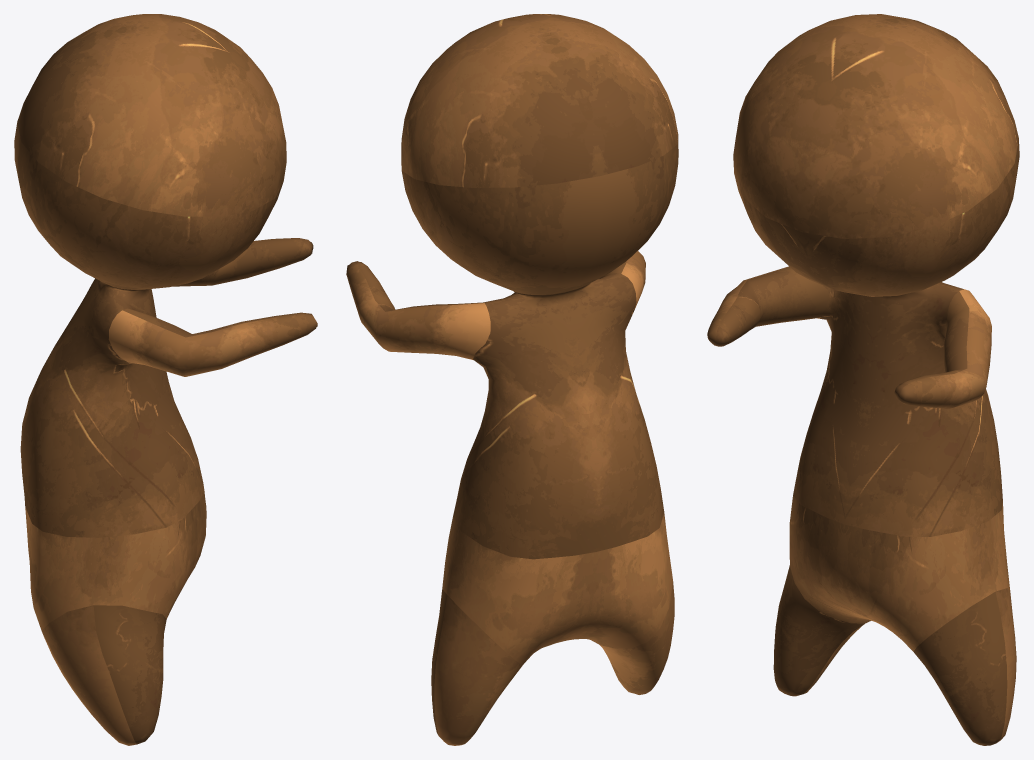
File: personagem.fbx
3 renders of one model, left to right at view 1: azimuth 30°, elevation 25°; view 2: azimuth 150°, elevation 25°; view 3: azimuth 270°, elevation 25°, orthographic. The views are drawn at different scales.
Parts seen in each view (by area): view 1: polySurface12; view 2: polySurface12; view 3: polySurface12.
Part boxes in pixels (x1,y1,x2,y2): polySurface12: (14,14,317,745); polySurface12: (346,14,678,745); polySurface12: (707,14,1019,745).
Size of the model in its own units: 28.24 by 61.74 by 24.96.
